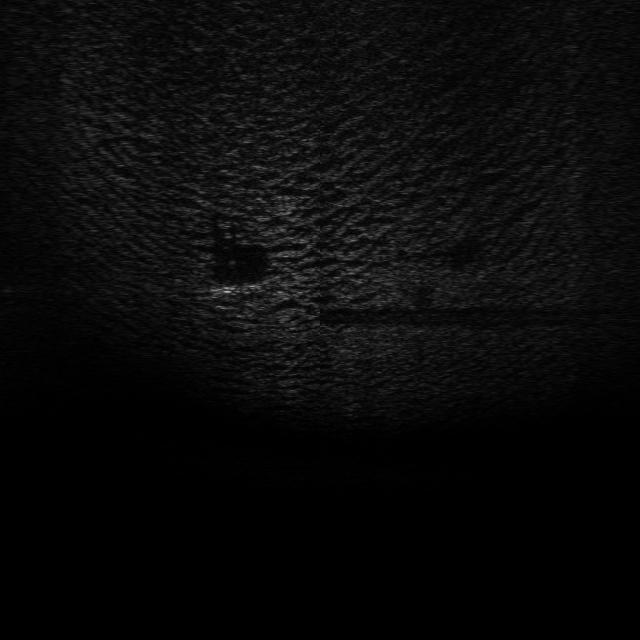plane: (202, 276, 266, 304)
